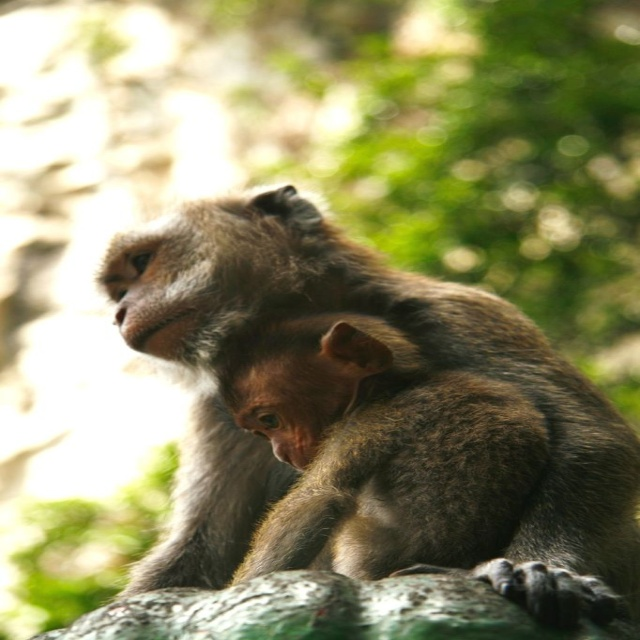Monkey: (90, 181, 640, 631), (220, 313, 553, 583)
